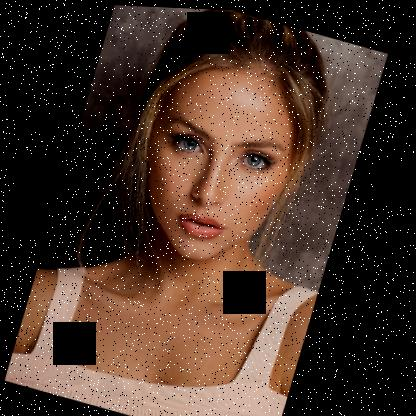Female: (120, 37, 316, 274)
